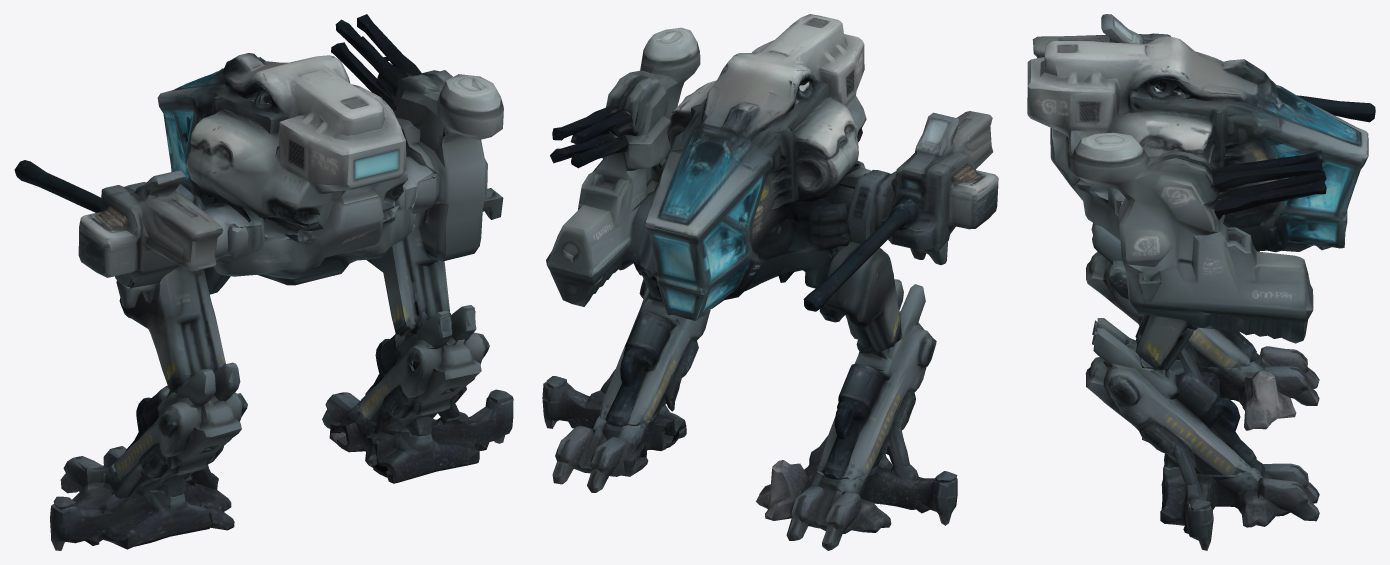
File: hero_l5.glb
3 renders of one model, left to right at view 1: azimuth 30°, elevation 25°; view 2: azimuth 150°, elevation 25°; view 3: azimuth 270°, elevation 25°, orthographic. The views are drawn at different scales.
Visible parts, largest first — view 1: hull, weapon_r, weapon_l, shin_l, shin_r, foot_l, foot_r, thigh_l; view 2: hull, weapon_r, weapon_l, shin_l, shin_r, foot_l, foot_r, thigh_l; view 3: hull, weapon_r, shin_r, foot_r, shin_l, foot_l, weapon_l, thigh_r.
Boxes of the visible parts, x1=… form: hull: x1=115, y1=53, x2=432, y2=530; weapon_r: x1=331, y1=14, x2=503, y2=334; weapon_l: x1=14, y1=160, x2=248, y2=288; shin_l: x1=53, y1=362, x2=242, y2=510; shin_r: x1=357, y1=305, x2=512, y2=436; foot_l: x1=50, y1=446, x2=211, y2=550; foot_r: x1=322, y1=386, x2=513, y2=483; thigh_l: x1=116, y1=267, x2=225, y2=393; hull: x1=644, y1=14, x2=952, y2=520; weapon_r: x1=546, y1=27, x2=700, y2=306; weapon_l: x1=803, y1=111, x2=998, y2=311; shin_l: x1=817, y1=279, x2=957, y2=482; shin_r: x1=546, y1=279, x2=710, y2=426; foot_l: x1=786, y1=454, x2=957, y2=550; foot_r: x1=542, y1=382, x2=686, y2=492; thigh_l: x1=819, y1=241, x2=947, y2=352; hull: x1=1027, y1=36, x2=1368, y2=430; weapon_r: x1=1071, y1=132, x2=1326, y2=369; shin_r: x1=1085, y1=318, x2=1256, y2=510; foot_r: x1=1160, y1=460, x2=1319, y2=550; shin_l: x1=1086, y1=223, x2=1256, y2=368; foot_l: x1=1169, y1=346, x2=1319, y2=405; weapon_l: x1=1032, y1=14, x2=1375, y2=122; thigh_r: x1=1136, y1=328, x2=1193, y2=370.
Bounding box in the file's own units: 3.45 × 3.24 × 2.52.
Materials: 1 (1 with a texture image).
